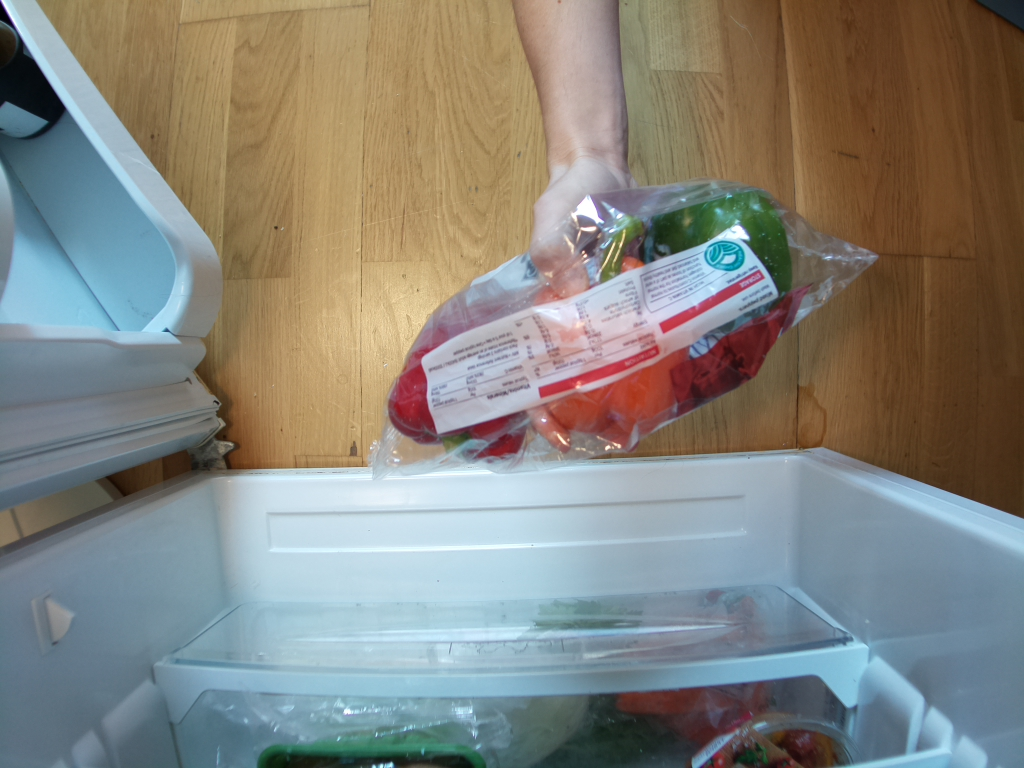pepper: (530, 216, 700, 440), (642, 192, 798, 340), (393, 298, 527, 461)
